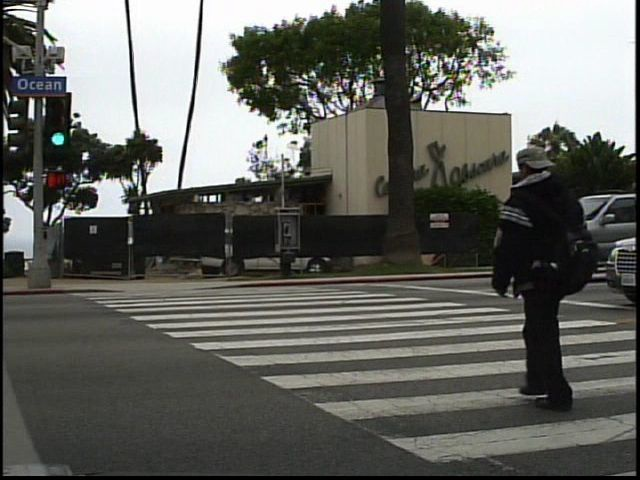person: (493, 137, 597, 410)
